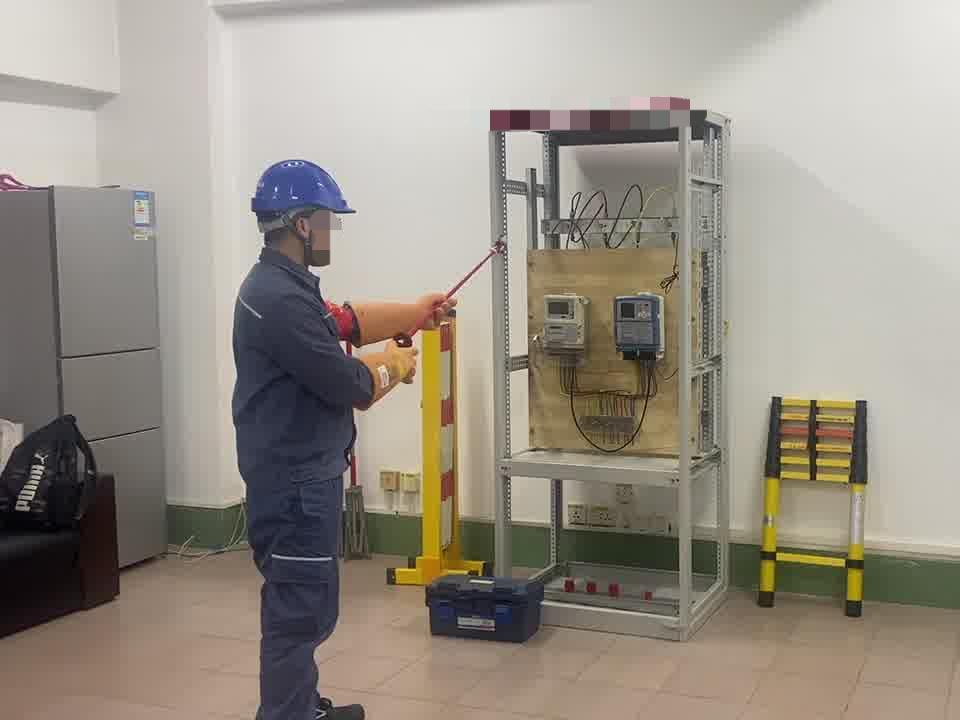halt: (252, 160, 358, 272)
inear: (283, 209, 328, 260)
